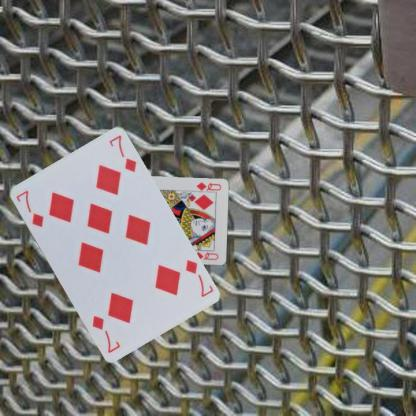7d: (182, 256, 214, 298), (13, 187, 44, 228)
Qd: (192, 180, 222, 194)
